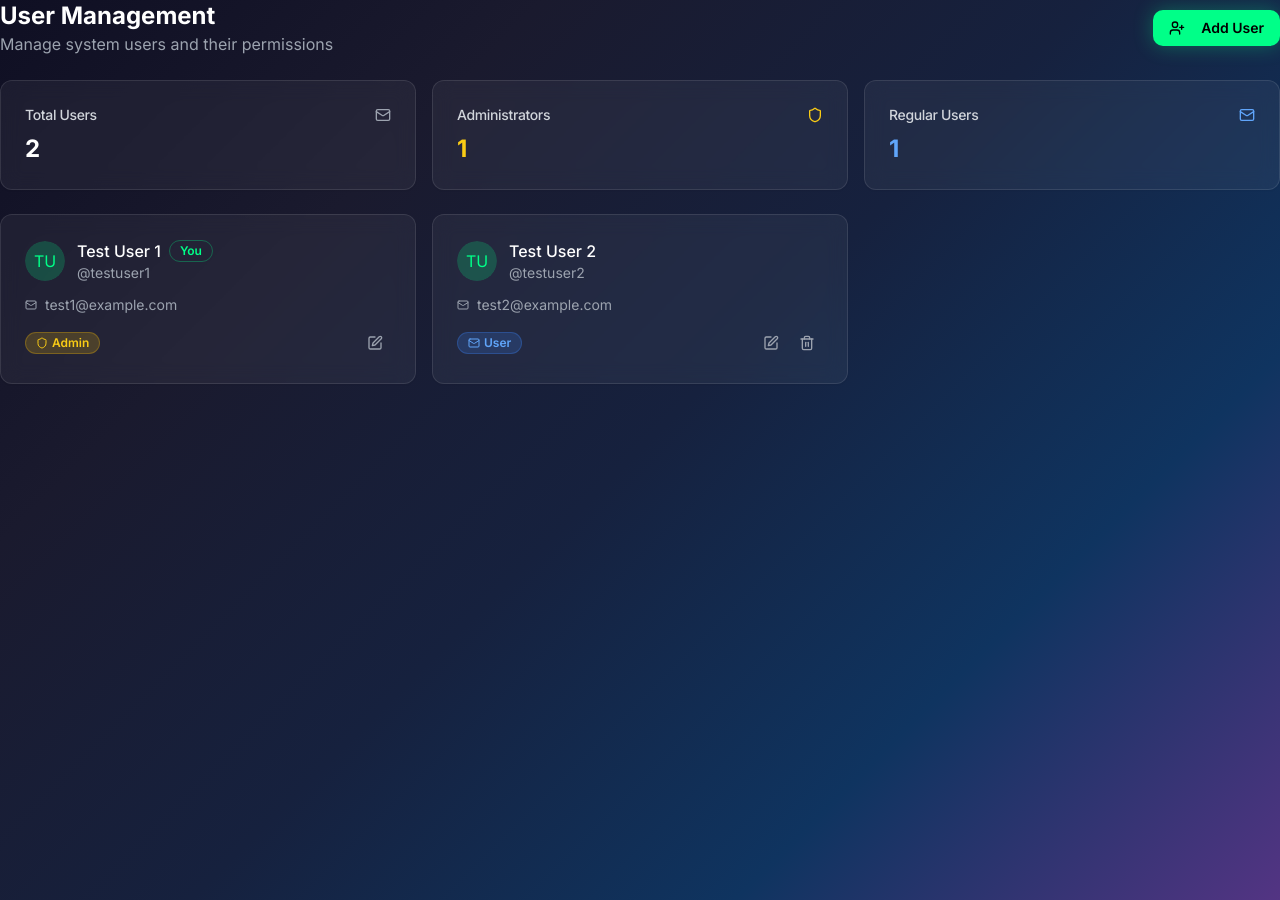
Test: UserManagement › opens user form when add button is clicked
The width and height of the screenshot is (1280, 900).
Click the button "Add User" at (1217, 28), box [1153, 10, 1279, 46]
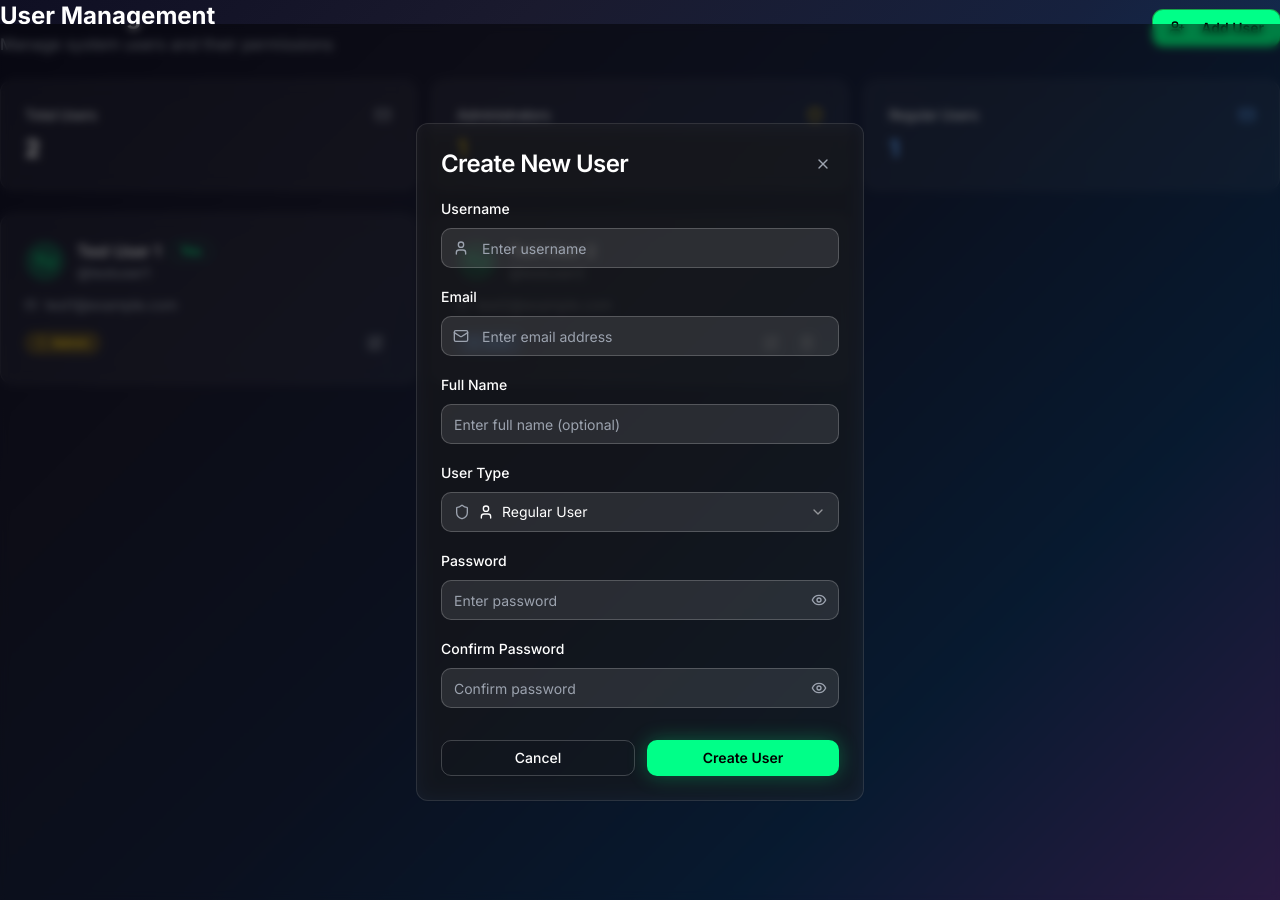
Result: the heading "Create New User" is shown at [441, 152, 628, 176]
